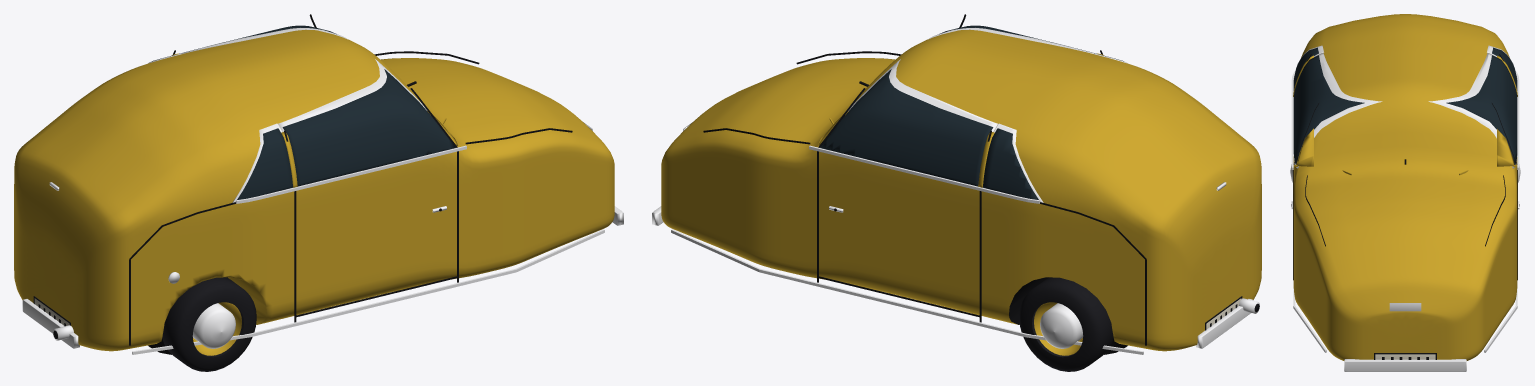
The model's file is t1_robbin.glb.
3 renders of one model, left to right at view 1: azimuth 30°, elevation 25°; view 2: azimuth 150°, elevation 25°; view 3: azimuth 270°, elevation 25°, orthographic. The views are drawn at different scales.
Visible parts, largest first — view 1: paint_00, glass_01, tyre_02, glass_00, chrome_26, chrome_06, chrome_22, chrome_28, chrome_03, paint_09; view 2: paint_00, glass_01, tyre_01, glass_00, chrome_25, chrome_06, chrome_21, chrome_27, chrome_03, paint_08, trim_02; view 3: paint_00, glass_01, chrome_06, chrome_02, glass_00, paint_03, paint_04, wall_00, chrome_01, chrome_27, chrome_28, chrome_25 (+1 smaller).
Part boxes in pixels (<box>): paint_00: <box>14,29,614,351</box>; glass_01: <box>179,25,455,186</box>; tyre_02: <box>162,277,256,371</box>; glass_00: <box>152,54,292,199</box>; chrome_26: <box>132,229,604,354</box>; chrome_06: <box>182,28,427,131</box>; chrome_22: <box>192,303,235,348</box>; chrome_28: <box>236,145,466,203</box>; chrome_03: <box>22,299,79,348</box>; paint_09: <box>193,302,241,355</box>; paint_00: <box>661,29,1261,351</box>; glass_01: <box>820,25,1096,186</box>; tyre_01: <box>1019,277,1113,371</box>; glass_00: <box>983,54,1123,199</box>; chrome_25: <box>671,229,1143,354</box>; chrome_06: <box>848,28,1093,131</box>; chrome_21: <box>1040,303,1083,348</box>; chrome_27: <box>809,145,1039,203</box>; chrome_03: <box>1196,299,1253,348</box>; paint_08: <box>1034,302,1082,355</box>; trim_02: <box>1009,277,1047,324</box>; paint_00: <box>1293,14,1517,360</box>; glass_01: <box>1293,55,1517,164</box>; chrome_06: <box>1293,53,1517,168</box>; chrome_02: <box>1344,359,1466,371</box>; glass_00: <box>1293,47,1517,90</box>; paint_03: <box>1497,129,1514,166</box>; paint_04: <box>1296,128,1313,166</box>; wall_00: <box>1375,354,1435,359</box>; chrome_01: <box>1389,303,1421,311</box>; chrome_27: <box>1515,71,1519,169</box>; chrome_28: <box>1291,71,1295,169</box>; chrome_25: <box>1484,280,1517,352</box>.
Size of the model in its own units: 10.37 by 4.35 by 4.38.
